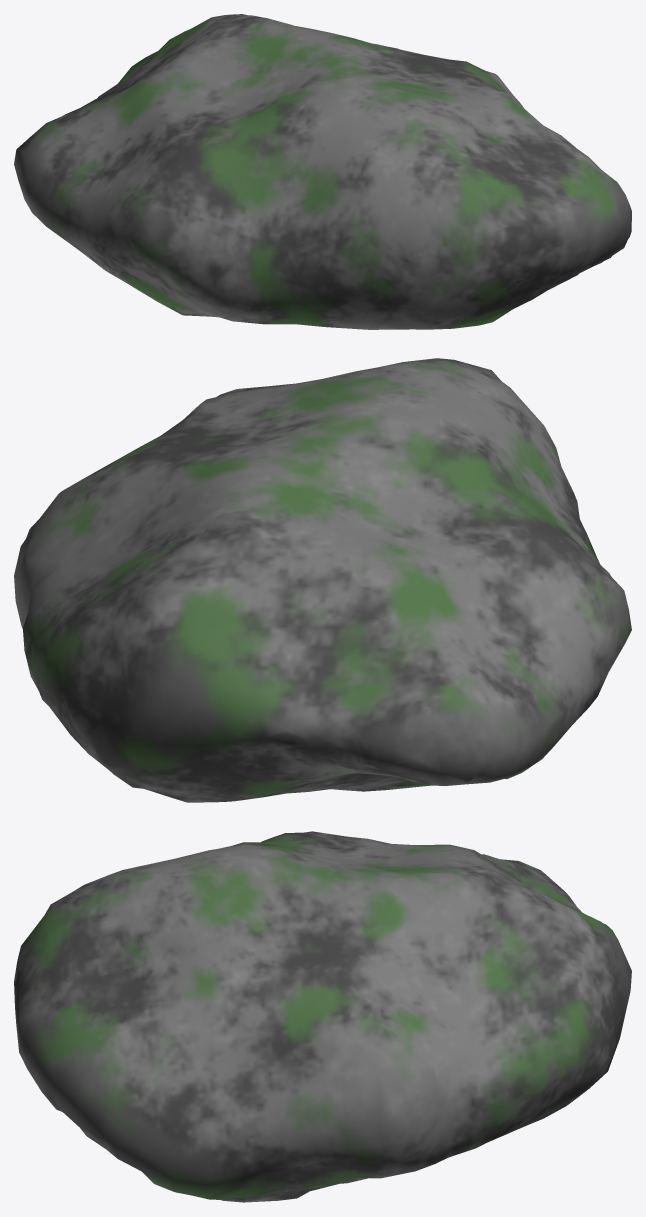
File: RockB.fbx
3 renders of one model, top to bottom at view 1: azimuth 30°, elevation 25°; view 2: azimuth 150°, elevation 25°; view 3: azimuth 270°, elevation 25°, orthographic. The views are drawn at different scales.
Parts seen in each view (by area): view 1: RockB; view 2: RockB; view 3: RockB.
Part boxes in pixels (<box>): RockB: <box>14,14,631,329</box>; RockB: <box>14,358,631,802</box>; RockB: <box>14,831,631,1202</box>.
Bounding box in the file's own units: 31.3 × 15.04 × 28.31.
1 material, 1 textured.
